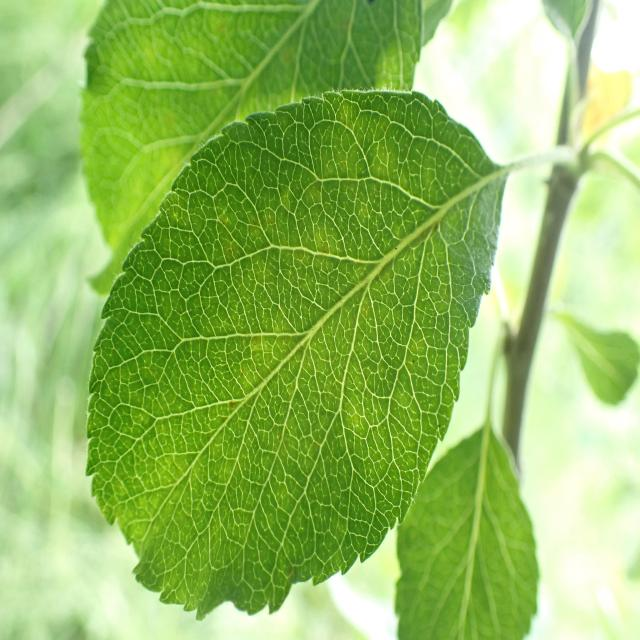scab: (164, 168, 430, 513)
